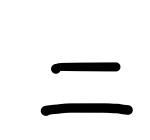eqv: (40, 60, 133, 116)
